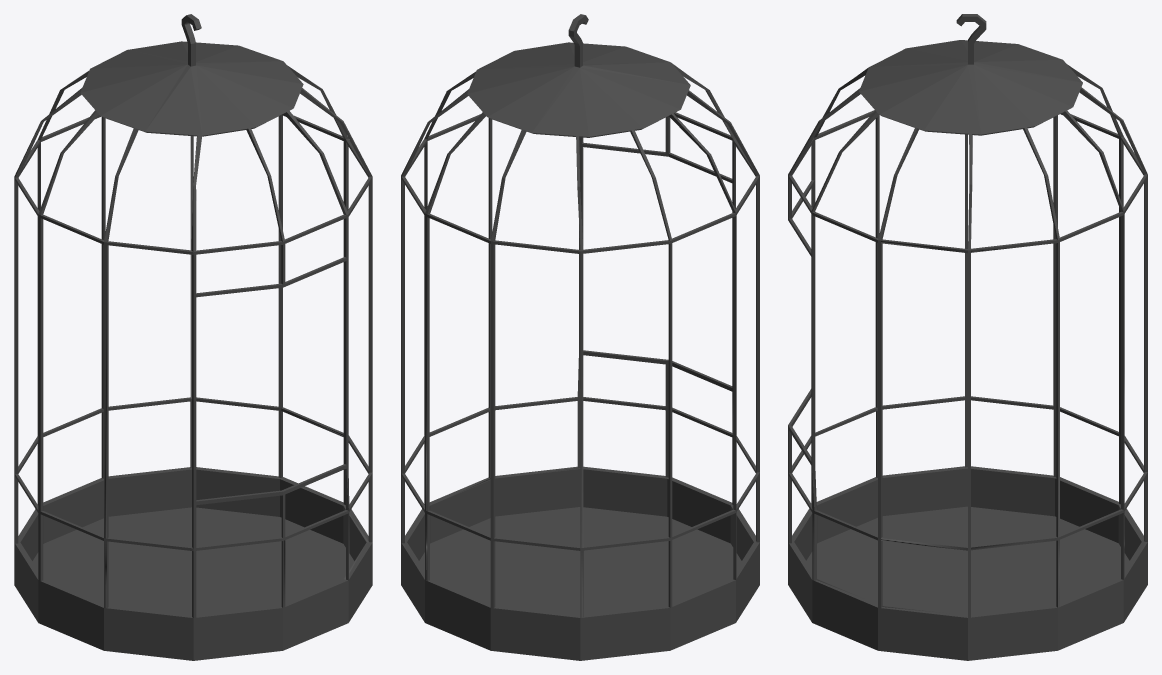
File: Cage.obj
3 renders of one model, left to right at view 1: azimuth 30°, elevation 25°; view 2: azimuth 150°, elevation 25°; view 3: azimuth 270°, elevation 25°, orthographic.
Visible parts, largest first — view 1: Cage; view 2: Cage; view 3: Cage.
Part boxes in pixels (x1,y1,x2,y2): Cage: (14, 14, 372, 660); Cage: (401, 14, 759, 660); Cage: (788, 14, 1147, 660).
Bounding box in the file's own units: 1.4 × 2.44 × 1.4.
1 material, 1 textured.
